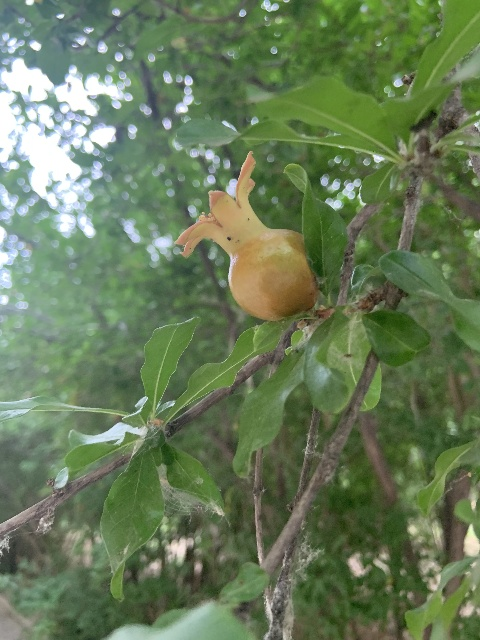early-fruit: (174, 150, 316, 322)
